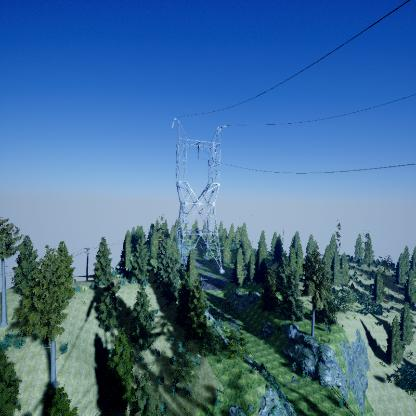tower: (167, 115, 232, 278)
